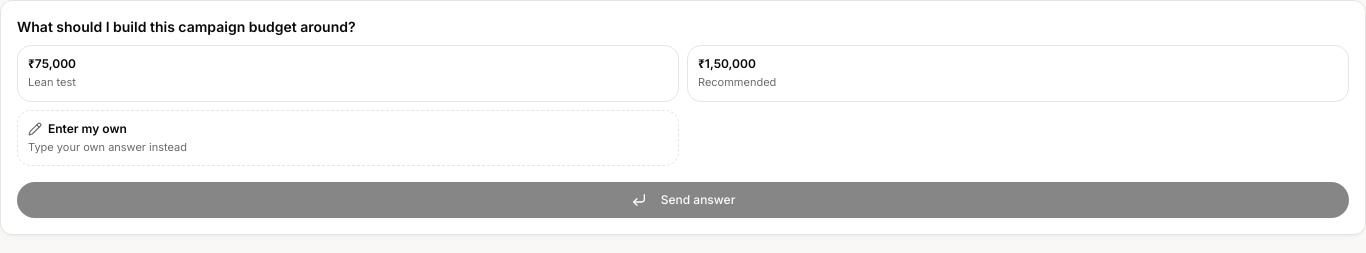
Scenario: AssistantQuestionCard › clears a selected tile when the typed answer is opened
Click the text "₹75,000".
click(52, 64)  # box [28,56,76,72]
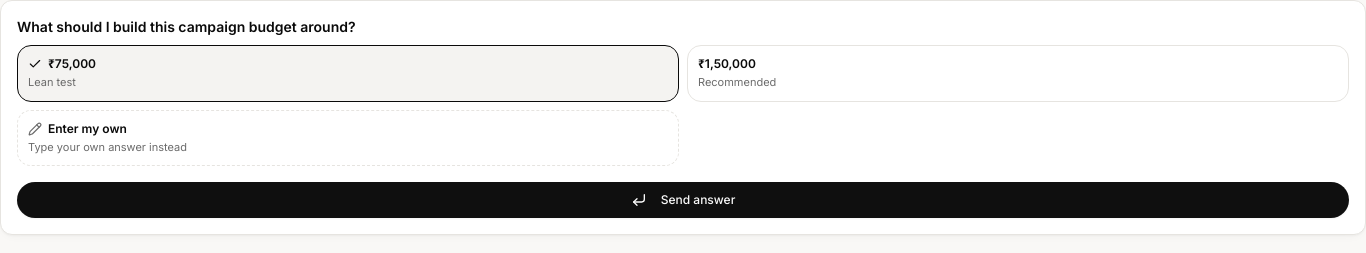
Check: the icon with class "lucide-check" is shown, box [28,57,42,71]
Click the text "Enter my own".
click(87, 128)  # box [48,120,127,136]
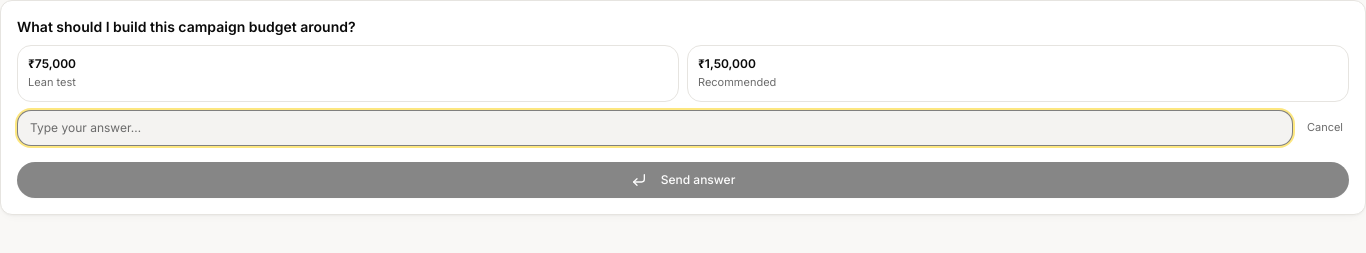
Check: the icon with class "lucide-check" is gone
